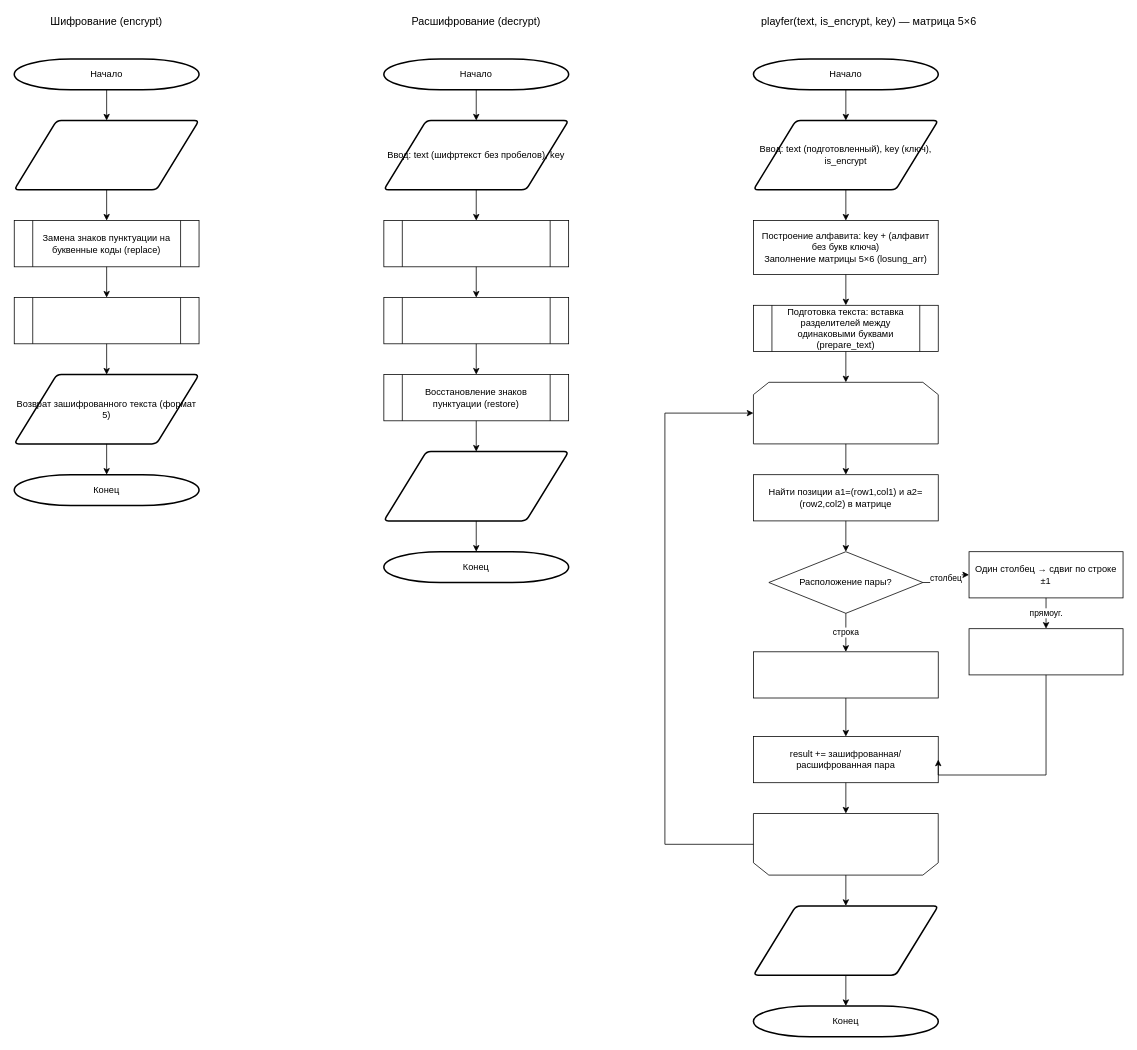
This 1137x1050 diagram has some shape labels left out. The shapes that lost their labels are listed below. From the top down, each one's centre as x and y in pixels, then its label:
At [106,154]: "Ввод: text (строка), key (ключ без повторов)".
At [476,243]: "Обратные правила Плейфера в матрице 5×6 (playfer, is_encrypt=False)".
At [106,320]: "Шифрование по правилам Плейфера в матрице 5×6 (playfer, is_encrypt=True)".
At [476,320]: "Удаление служебных вставок (clean_decrypted_text)".
At [845,413]: "цикл: для каждой пары (char1, char2)".
At [476,485]: "Возврат расшифрованного текста".
At [1045,651]: "Прямоугольник → замена на (row1,col2) и (row2,col1)".
At [845,674]: "Одна строка → сдвиг по столбцу ±1".
At [845,940]: "Возврат result".
